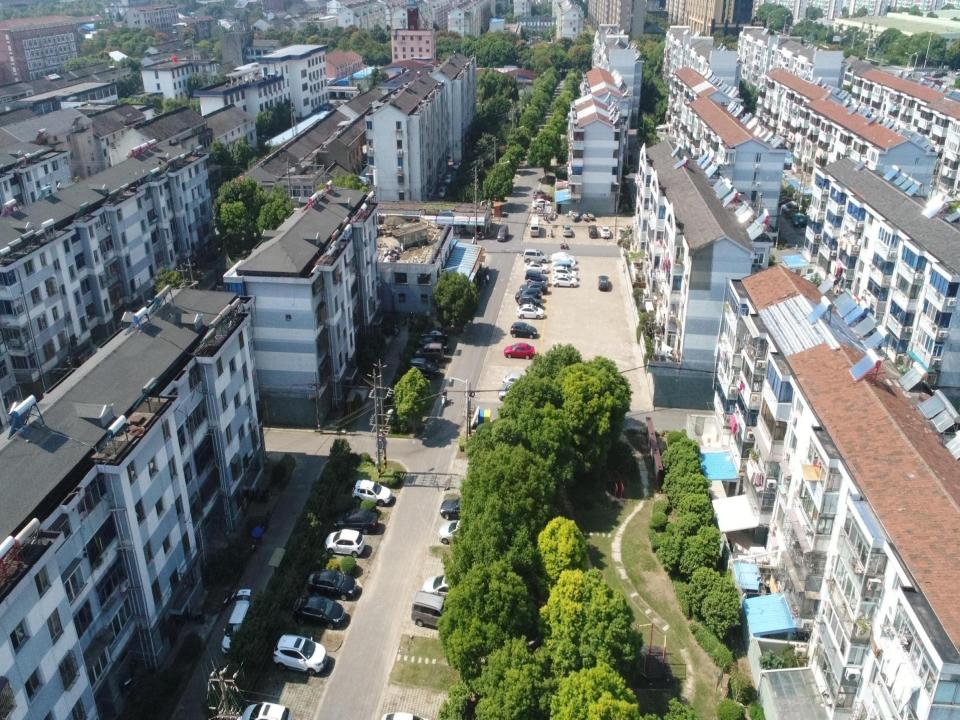car: (272, 632, 327, 677), (292, 594, 344, 629), (306, 570, 357, 601), (352, 477, 392, 507), (424, 574, 466, 602), (333, 508, 377, 534), (438, 520, 483, 545), (324, 530, 364, 558), (440, 496, 482, 520), (240, 702, 292, 720), (408, 356, 440, 379), (414, 342, 444, 363), (503, 341, 535, 359), (421, 325, 449, 345), (498, 384, 528, 402), (417, 337, 449, 353), (510, 321, 537, 339), (502, 373, 530, 390), (524, 269, 549, 287), (516, 304, 544, 320), (515, 288, 542, 304), (520, 280, 548, 295), (552, 266, 578, 280), (552, 274, 577, 288), (518, 294, 543, 308), (551, 252, 576, 266), (524, 260, 548, 274), (551, 258, 575, 271), (497, 223, 508, 242), (532, 198, 550, 208), (598, 274, 609, 290), (562, 224, 573, 238), (600, 225, 611, 239), (535, 194, 552, 203), (588, 224, 598, 239), (533, 189, 549, 198), (437, 186, 446, 199), (451, 159, 460, 170), (444, 172, 452, 184)
van: (221, 587, 253, 657), (410, 591, 460, 631), (522, 248, 551, 264), (530, 215, 541, 238), (555, 261, 572, 273)
